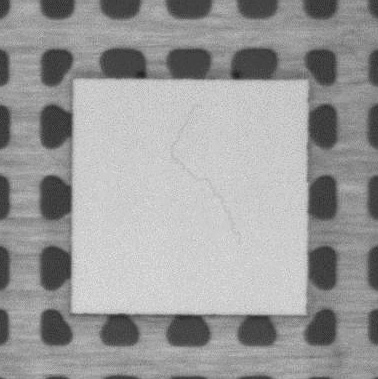DIE_CRACK: (166, 105, 244, 243)
